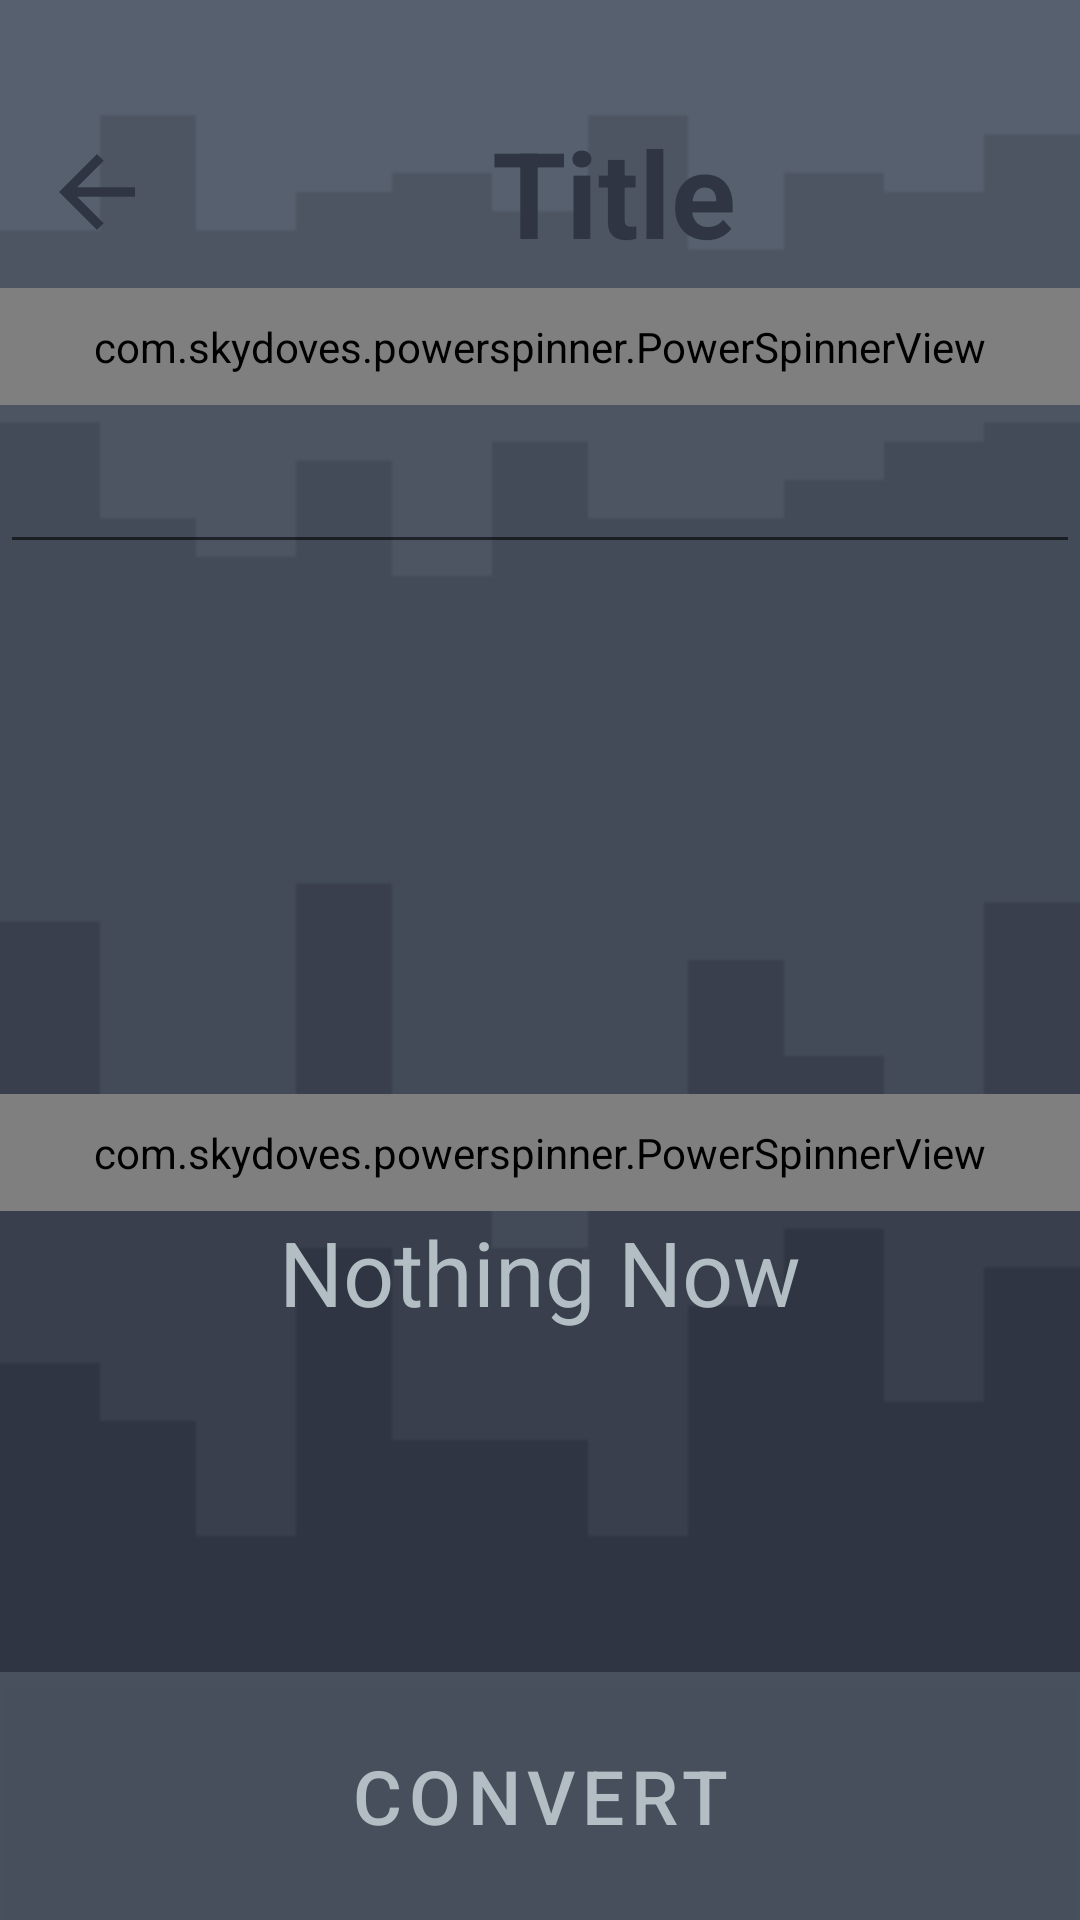

Screen size 1080 x 1920. Icon name, then its center in pixels as (x,y):
back: (97,192)
